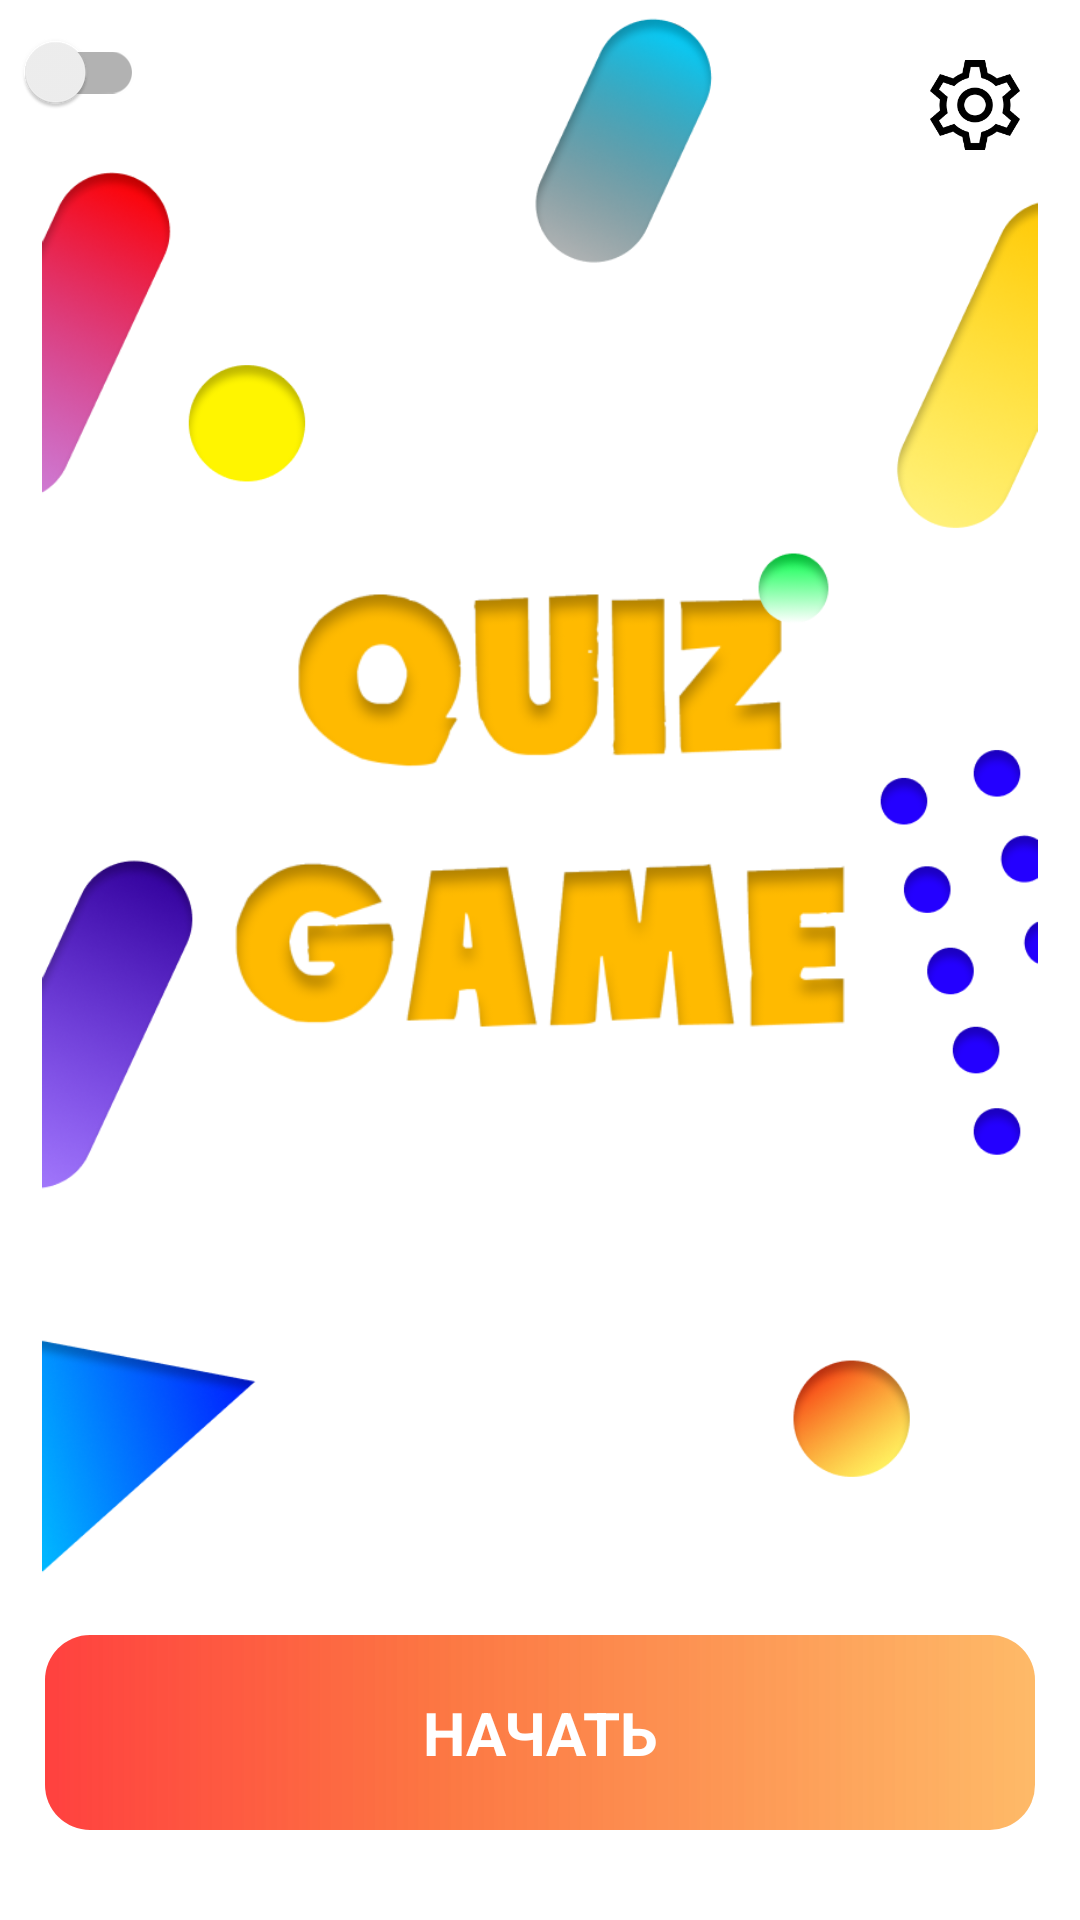

Icons on this 1080w x 1920h Android screen, each with the point to tap as (x=x, y=y):
setting: (x=975, y=105)
